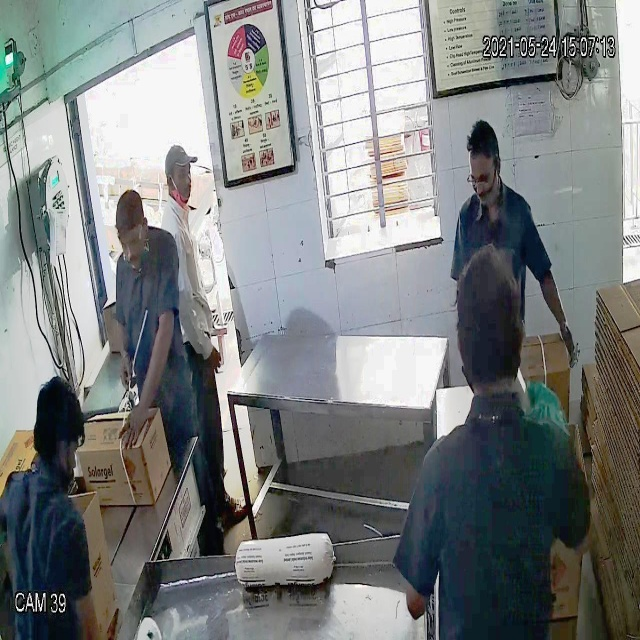Gafas: (465, 159, 496, 199), (116, 228, 147, 256)
Sin_gafas: (161, 162, 197, 188)
